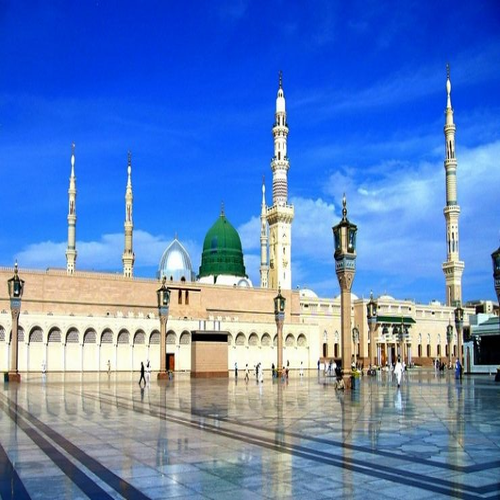Mosque: (12, 66, 477, 371)
